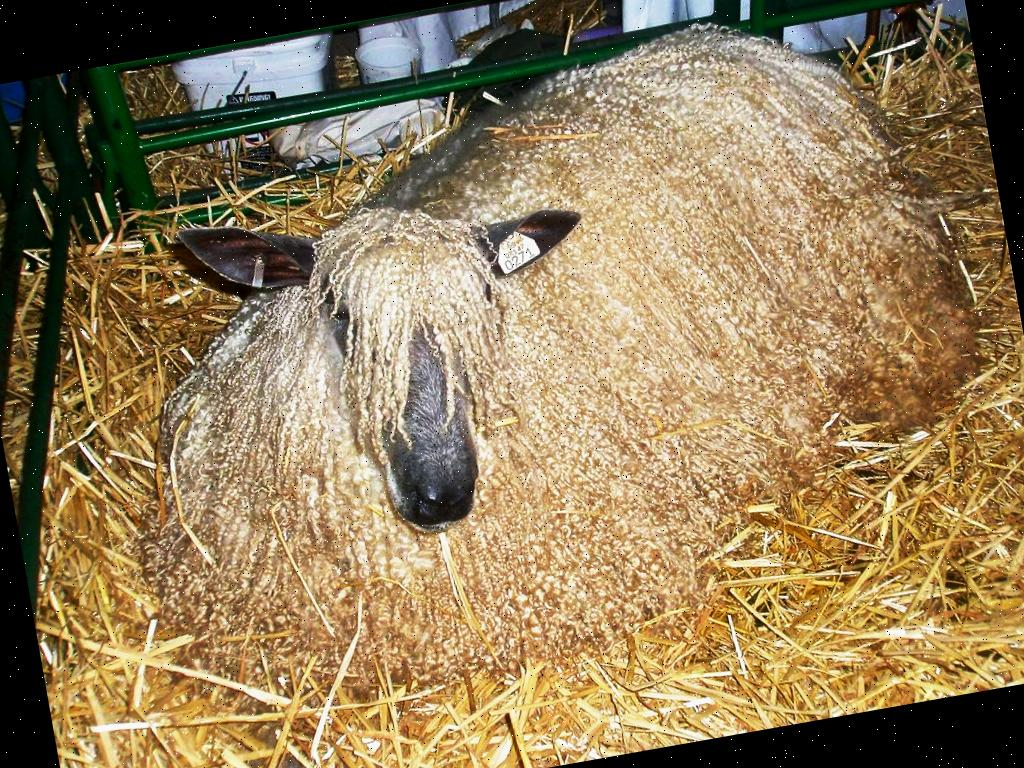Sheep: (55, 0, 1000, 729)
